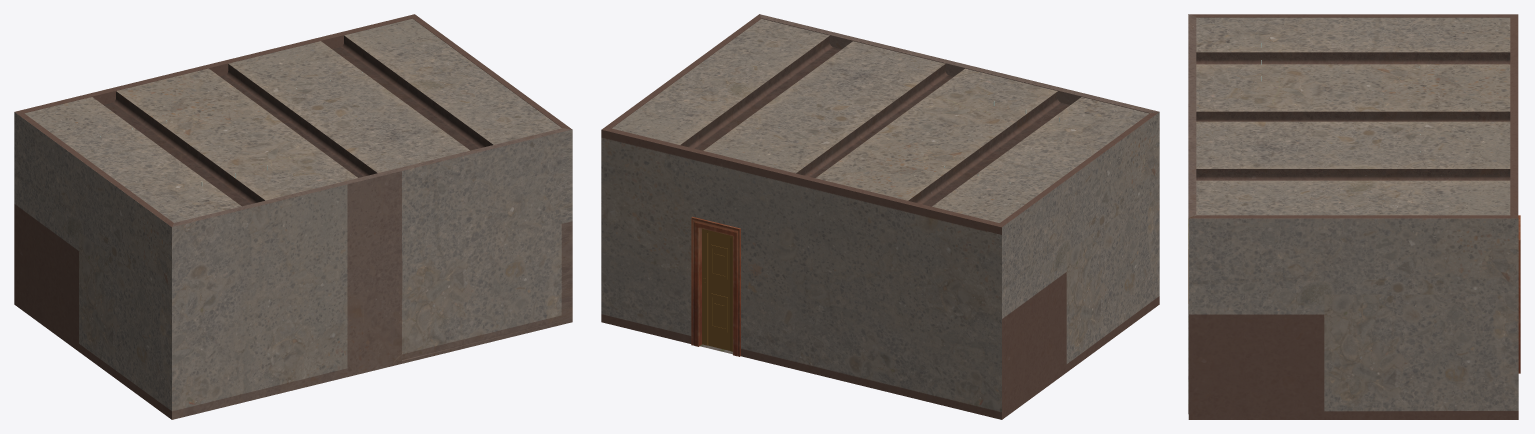
The model's file is Laboratoire.fbx.
The picture shows the model from 3 angles, left to right: view 1: azimuth 30°, elevation 25°; view 2: azimuth 150°, elevation 25°; view 3: azimuth 270°, elevation 25°; orthographic projection. The views are drawn at different scales.
Visible parts, largest first — view 1: S_WallLab_04, S_LowPlafond, S_WallLab_01, S_WallLab_02.001, S_WallLab_03; view 2: S_WallLab_02.001, S_LowPlafond, S_WallLab_01, S_LowDoor, S_EncadrementPorte, S_WallLab_04, S_WallLab_03; view 3: S_WallLab_03, S_LowPlafond, S_WallLab_04, S_WallLab_02.001, S_WallLab_01, S_EncadrementPorte.
Boxes of the visible parts, x1,y1,x2,y2 form: S_WallLab_04: (172,128,572,419); S_LowPlafond: (24,18,561,222); S_WallLab_01: (14,112,173,419); S_WallLab_02.001: (15,14,414,113); S_WallLab_03: (412,14,571,129); S_WallLab_02.001: (601,128,1001,419); S_LowPlafond: (612,18,1150,222); S_WallLab_01: (1000,112,1159,419); S_LowDoor: (702,228,732,351); S_EncadrementPorte: (691,216,740,356); S_WallLab_04: (759,14,1159,113); S_WallLab_03: (602,14,761,129); S_WallLab_03: (1189,215,1518,419); S_LowPlafond: (1195,17,1510,215); S_WallLab_04: (1188,14,1196,414); S_WallLab_02.001: (1510,14,1518,217); S_WallLab_01: (1190,14,1517,17); S_EncadrementPorte: (1518,215,1520,373).
Bounding box in the file's own units: 772 × 364 × 530.
